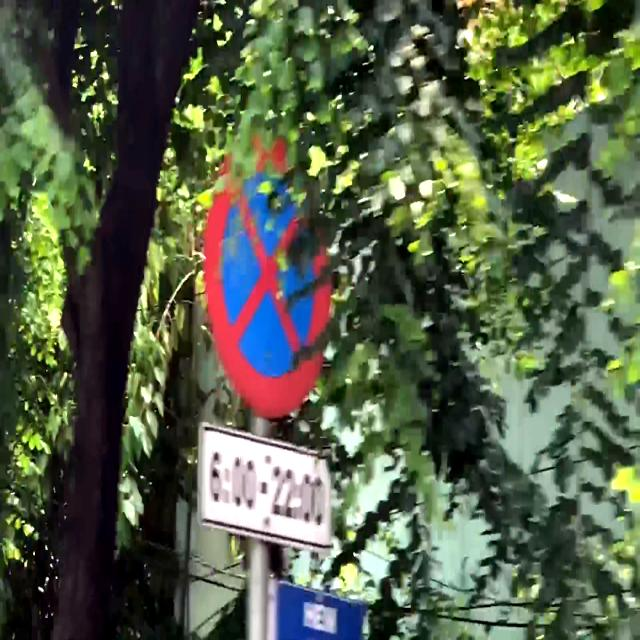P.130: (204, 125, 335, 418)
